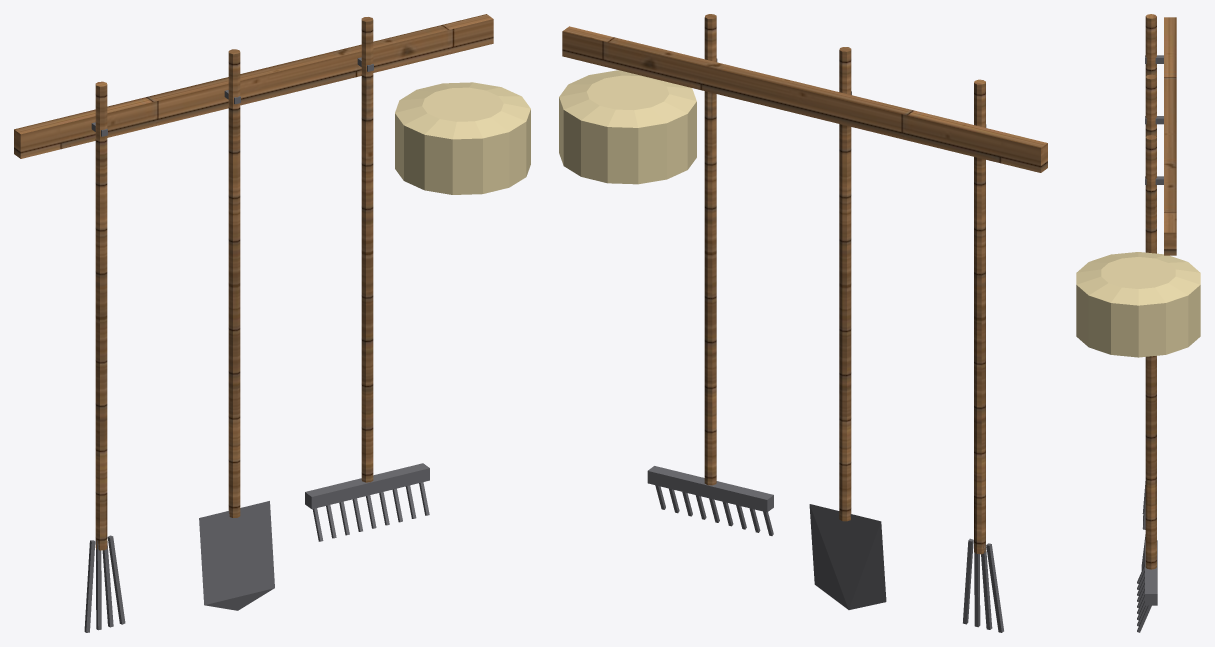
Rendered from tool_rack.glb.
3 renders of one model, left to right at view 1: azimuth 30°, elevation 25°; view 2: azimuth 150°, elevation 25°; view 3: azimuth 270°, elevation 25°, orthographic. The views are drawn at different scales.
Parts seen in each view (by area): view 1: tool_rack_wood, tool_rack_hay, tool_rack_iron; view 2: tool_rack_wood, tool_rack_hay, tool_rack_iron; view 3: tool_rack_hay, tool_rack_wood, tool_rack_iron.
Boxes of the visible parts, box(x1,y1,x2,y2) form: tool_rack_wood: box(14, 14, 493, 550); tool_rack_hay: box(395, 82, 530, 194); tool_rack_iron: box(84, 57, 429, 632); tool_rack_wood: box(562, 14, 1047, 554); tool_rack_hay: box(559, 70, 696, 184); tool_rack_iron: box(647, 58, 1003, 632); tool_rack_hay: box(1076, 252, 1200, 357); tool_rack_wood: box(1145, 14, 1176, 569); tool_rack_iron: box(1137, 55, 1163, 632).
Bounding box in the file's own units: 1.65 × 1.8 × 0.39.
Materials: 3 (1 with a texture image).
